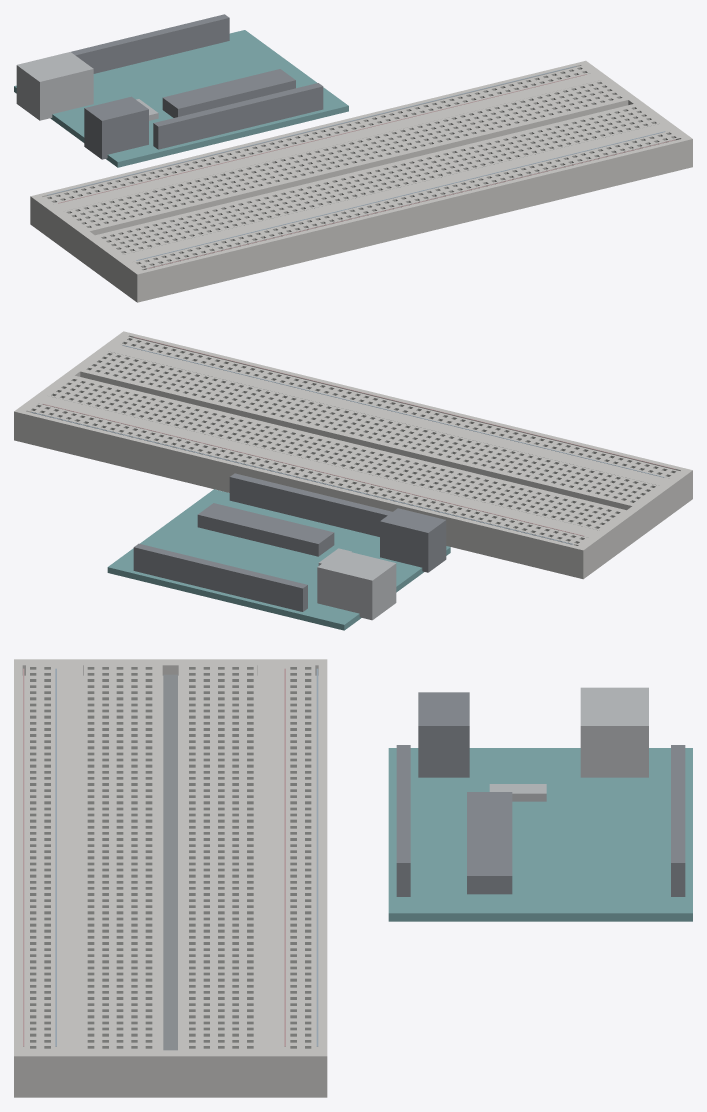
Rendered from step-1.glb.
The picture shows the model from 3 angles, top to bottom: view 1: azimuth 30°, elevation 25°; view 2: azimuth 150°, elevation 25°; view 3: azimuth 270°, elevation 25°; orthographic projection. The views are drawn at different scales.
Visible parts, largest first — view 1: breadboard__mesh, uno__mesh; view 2: breadboard__mesh, uno__mesh; view 3: breadboard__mesh, uno__mesh.
Boxes of the visible parts, bbox=[...] form: breadboard__mesh: bbox=[30, 60, 692, 302]; uno__mesh: bbox=[14, 14, 348, 167]; breadboard__mesh: bbox=[14, 331, 692, 579]; uno__mesh: bbox=[107, 473, 450, 630]; breadboard__mesh: bbox=[14, 659, 327, 1097]; uno__mesh: bbox=[388, 687, 692, 921].
Size of the model in its own units: 0.165 by 0.0158 by 0.1192.
